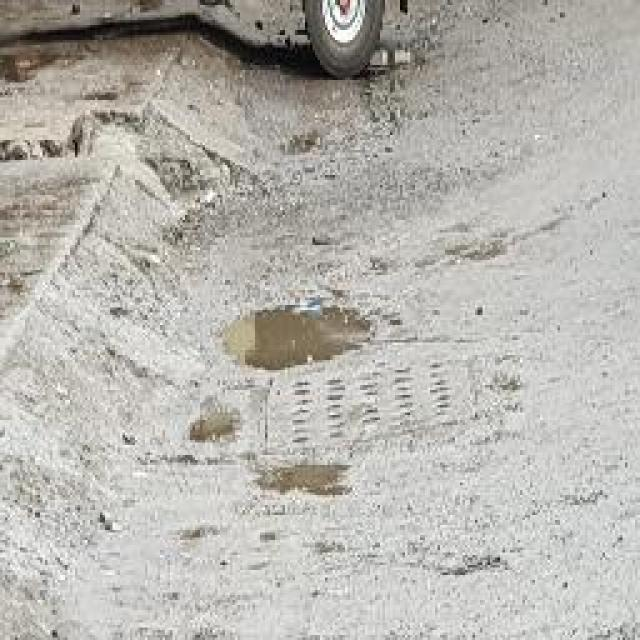waterlogging: (233, 301, 379, 373)
